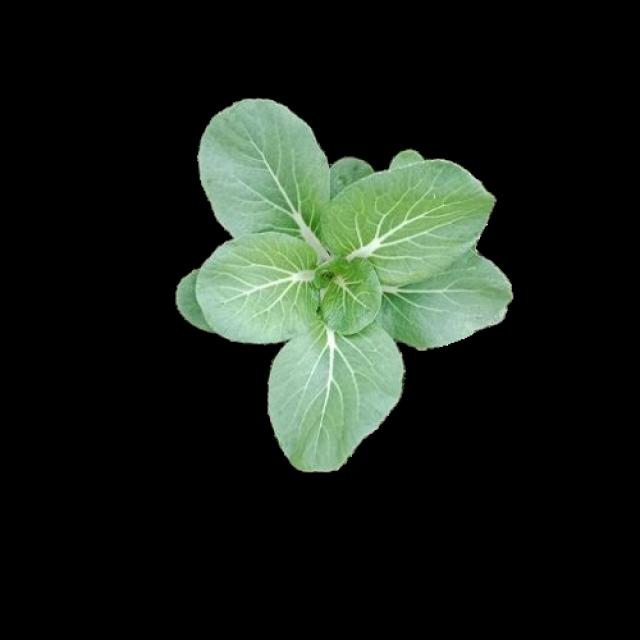healthy: (173, 92, 511, 475)
not-mature: (176, 95, 514, 477)
